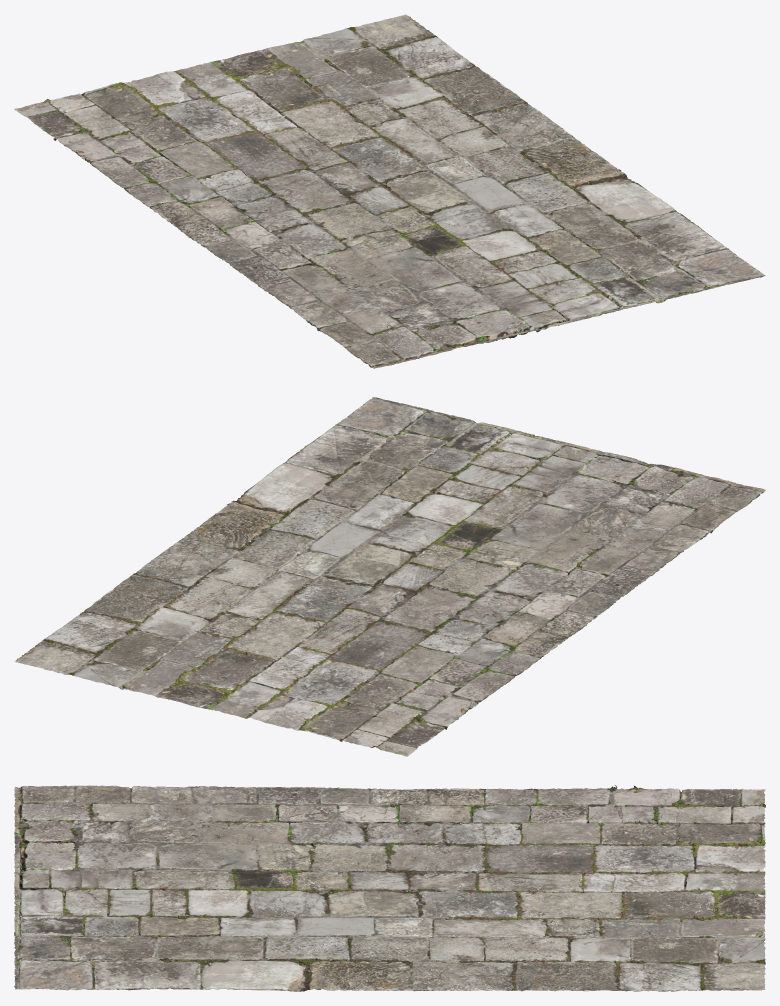
The model's file is ground.glb.
3 renders of one model, top to bottom at view 1: azimuth 30°, elevation 25°; view 2: azimuth 150°, elevation 25°; view 3: azimuth 270°, elevation 25°, orthographic. The views are drawn at different scales.
Bounding box in the file's own units: 24.18 × 0.5605 × 38.26.
Materials: 1 (1 with a texture image).
